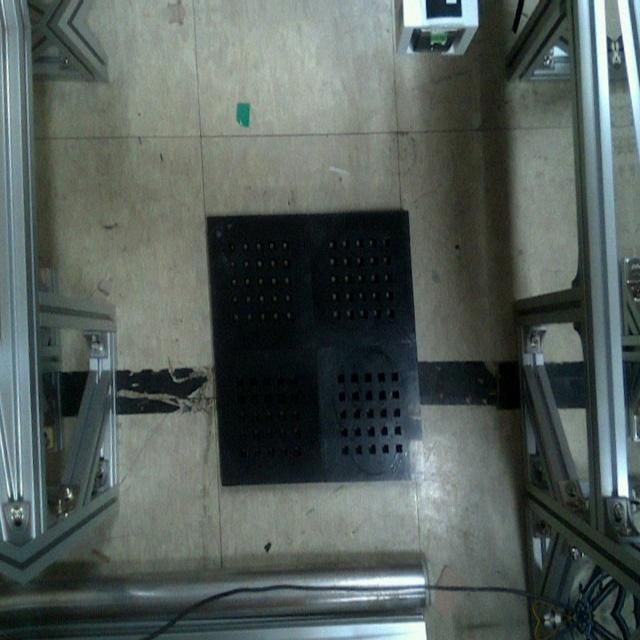pallet: (196, 192, 436, 504)
